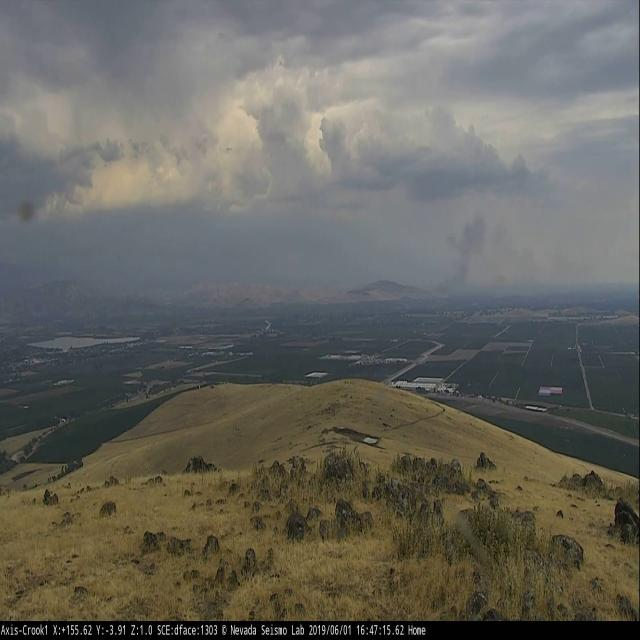smoke: (431, 201, 541, 296)
